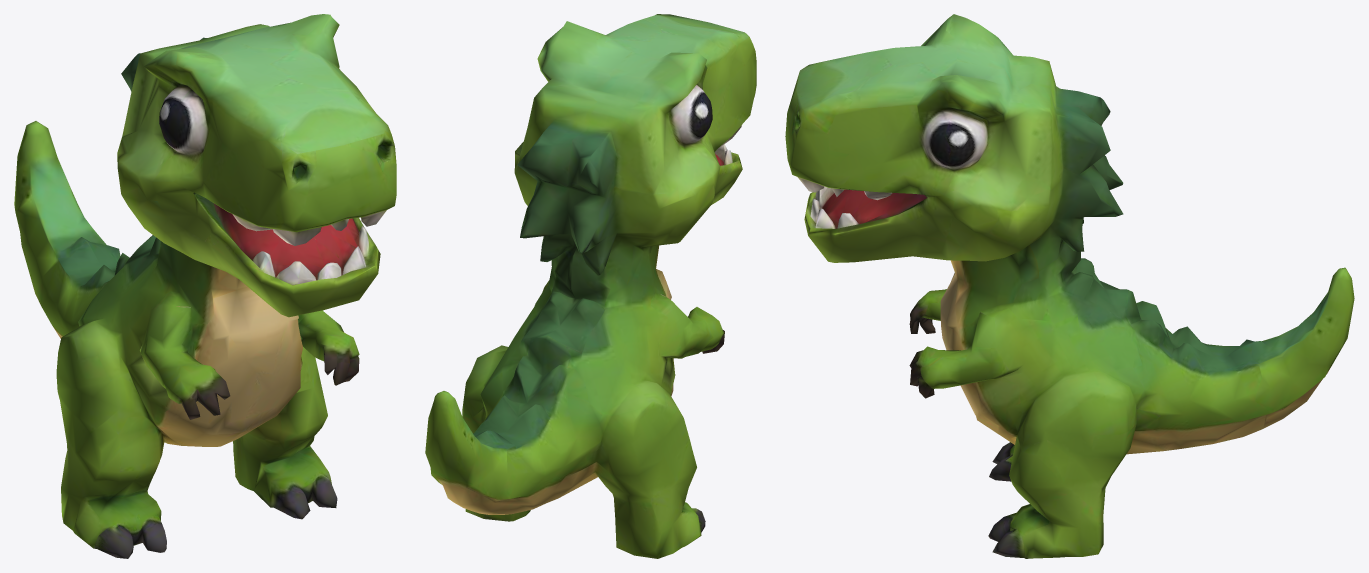
Rendered from dino.glb.
3 views of the same model, side by side, from view 1: azimuth 30°, elevation 25°; view 2: azimuth 150°, elevation 25°; view 3: azimuth 270°, elevation 25° (orthographic). The views are drawn at different scales.
Parts seen in each view (by area): view 1: tripo_node_489abf02-a740-4a07-a756-0ac70cadcadd; view 2: tripo_node_489abf02-a740-4a07-a756-0ac70cadcadd; view 3: tripo_node_489abf02-a740-4a07-a756-0ac70cadcadd.
Boxes of the visible parts, x1,y1,x2,y2 form: tripo_node_489abf02-a740-4a07-a756-0ac70cadcadd: (14, 14, 396, 558); tripo_node_489abf02-a740-4a07-a756-0ac70cadcadd: (425, 14, 756, 558); tripo_node_489abf02-a740-4a07-a756-0ac70cadcadd: (785, 14, 1354, 558).
Bounding box in the file's own units: 0.4394 × 0.8947 × 1.
Materials: 1 (1 with a texture image).
